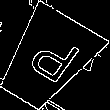P_SW: (15, 29, 79, 91)
